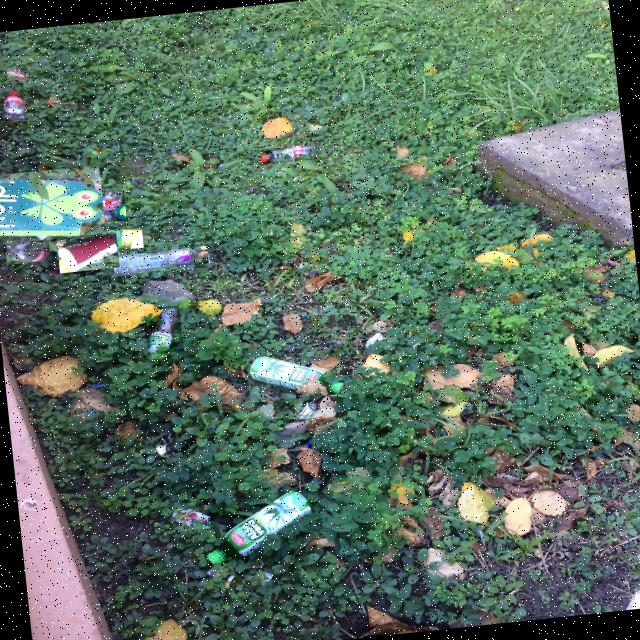Cigarette: (226, 573, 235, 587)
Clear plastic bottle: (206, 491, 313, 565), (248, 357, 344, 393), (113, 248, 206, 276), (147, 307, 179, 353), (7, 241, 50, 262), (94, 193, 124, 222), (261, 145, 312, 162), (104, 230, 142, 249), (3, 91, 25, 121)
Normal paper: (155, 445, 166, 455)
Other carton: (8, 67, 26, 79)
Other plastic: (173, 508, 209, 528), (296, 402, 315, 418)
Paper cup: (59, 235, 118, 271)
Plastic bottle cap: (261, 155, 266, 162), (114, 261, 118, 264)
Unlabeled litter: (0, 178, 102, 236)
